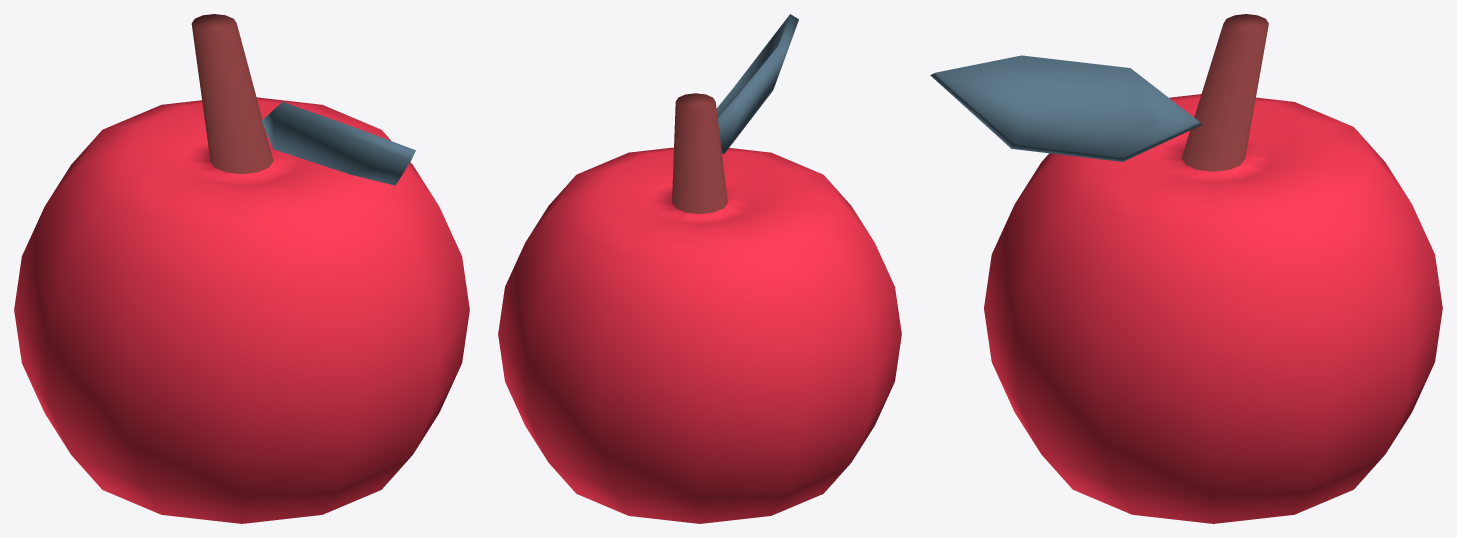
File: apple_red.fbx
3 views of the same model, side by side, from view 1: azimuth 30°, elevation 25°; view 2: azimuth 150°, elevation 25°; view 3: azimuth 270°, elevation 25° (orthographic). The views are drawn at different scales.
Parts seen in each view (by area): view 1: 球体.011, 球体.012; view 2: 球体.011, 球体.012; view 3: 球体.011, 球体.012.
Boxes of the visible parts, x1,y1,x2,y2 form: 球体.011: (14, 14, 469, 523); 球体.012: (261, 102, 415, 185); 球体.011: (498, 93, 901, 523); 球体.012: (716, 14, 798, 153); 球体.011: (984, 14, 1442, 523); 球体.012: (930, 55, 1202, 161).
Bounding box in the file's own units: 84 × 90.05 × 93.84.
